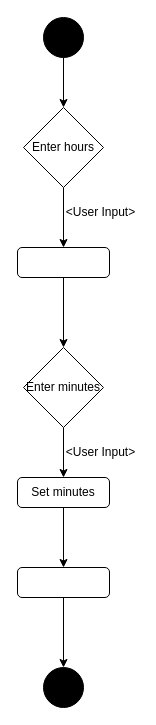
The diagram is 156 pixels wide and 725 high, and some of its shapes have lost their labels. The centre of each missing label's shape, as x and y in pixels:
"Alarm" belongs at point (63, 582).
"Set hour" belongs at point (63, 262).
